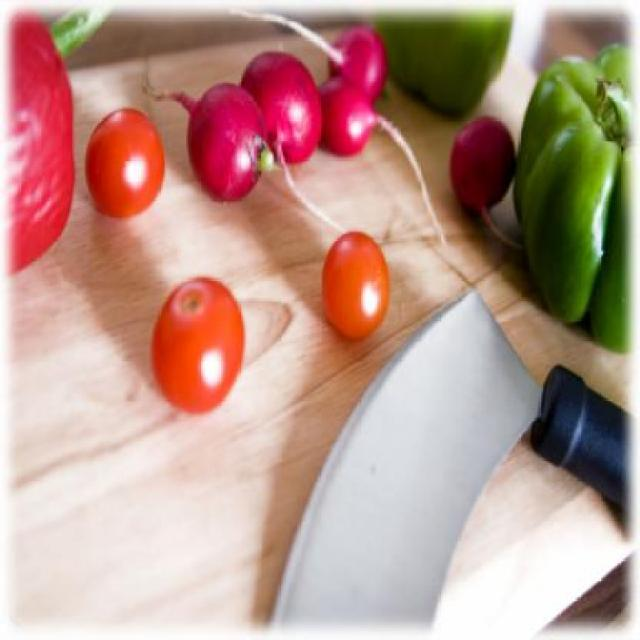Bell pepper: (512, 41, 634, 354), (373, 8, 512, 122)
